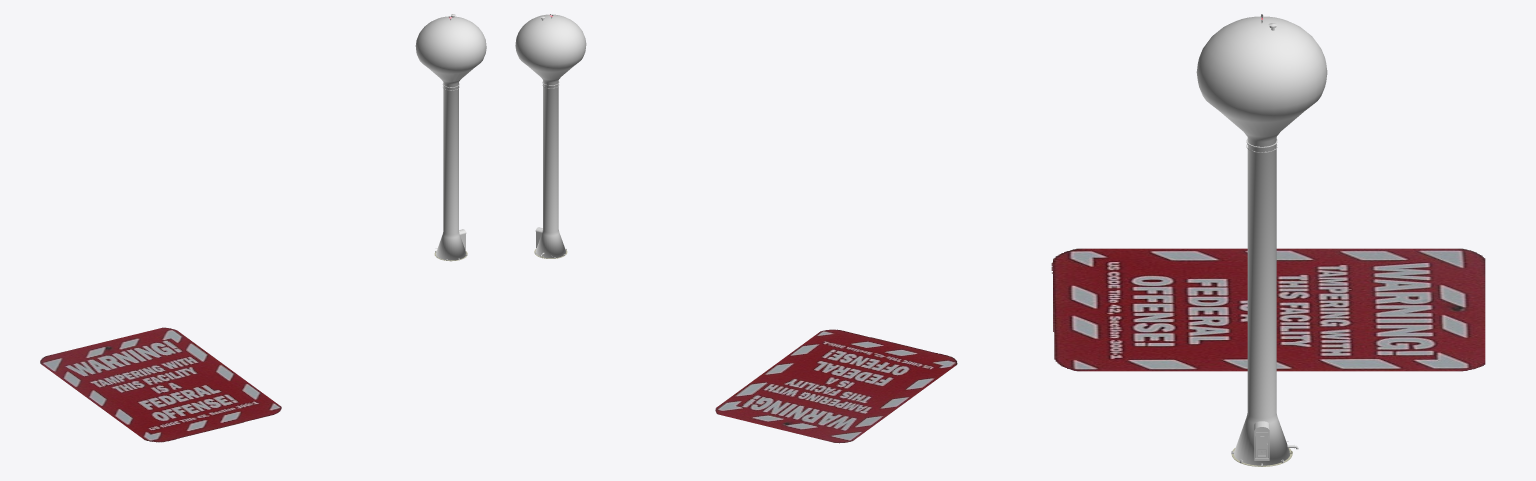
The model's file is tower.fbx.
3 views of the same model, side by side, from view 1: azimuth 30°, elevation 25°; view 2: azimuth 150°, elevation 25°; view 3: azimuth 270°, elevation 25° (orthographic). The views are drawn at different scales.
Parts seen in each view (by area): view 1: Cylinder.001, Tower Sphere; view 2: Cylinder.001, Tower Sphere; view 3: Cylinder.001, Tower Sphere.
Part boxes in pixels (x1,y1,x2,y2): Cylinder.001: (40,327,281,442); Tower Sphere: (415,14,486,261); Cylinder.001: (715,329,957,443); Tower Sphere: (515,14,586,258); Cylinder.001: (1051,248,1485,371); Tower Sphere: (1196,14,1327,466).
Size of the model in its own units: 2365 by 1752 by 1400.
Materials: 7 (2 with a texture image).
